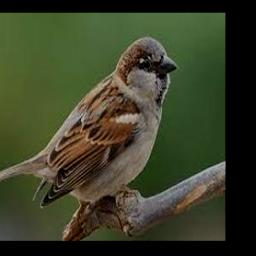Sparrow: (0, 37, 178, 209)
